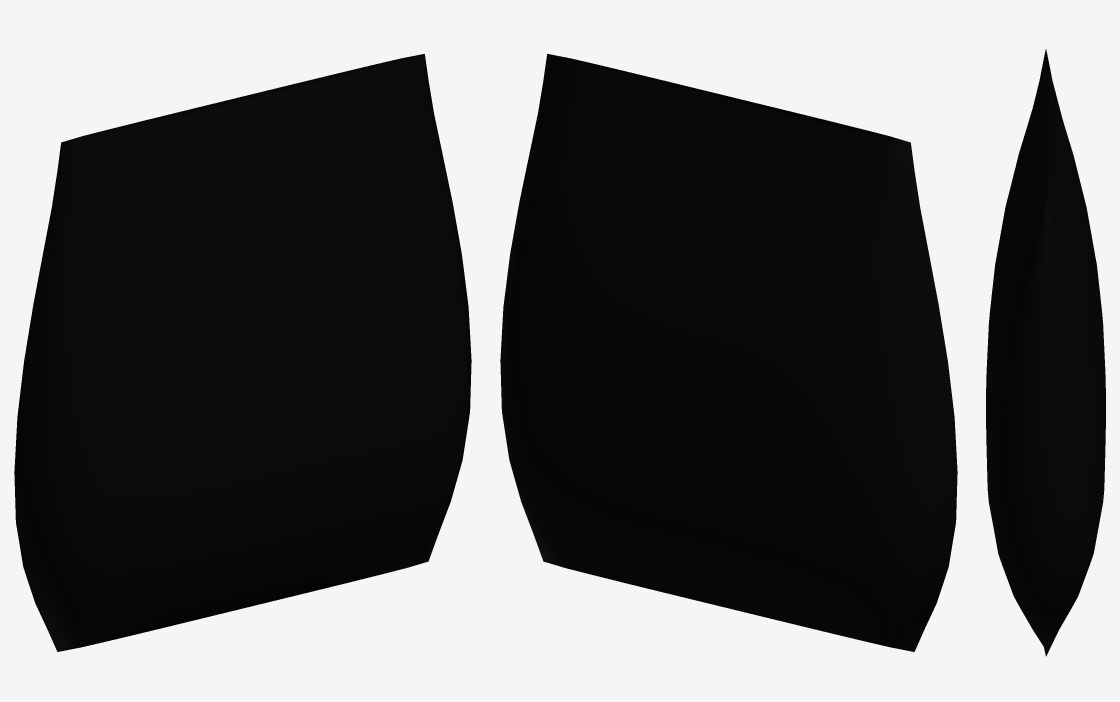
File: chipsi.glb
3 renders of one model, left to right at view 1: azimuth 30°, elevation 25°; view 2: azimuth 150°, elevation 25°; view 3: azimuth 270°, elevation 25°, orthographic. The views are drawn at different scales.
Parts seen in each view (by area): view 1: Bag_Body; view 2: Bag_Body; view 3: Bag_Body.
Boxes of the visible parts, left/top/right/bottom form: Bag_Body: left=14, top=54, right=471, bottom=651; Bag_Body: left=500, top=54, right=957, bottom=651; Bag_Body: left=986, top=49, right=1105, bottom=656.
Size of the model in its own units: 0.77 by 0.9375 by 0.1975.
2 materials, 2 textured.
